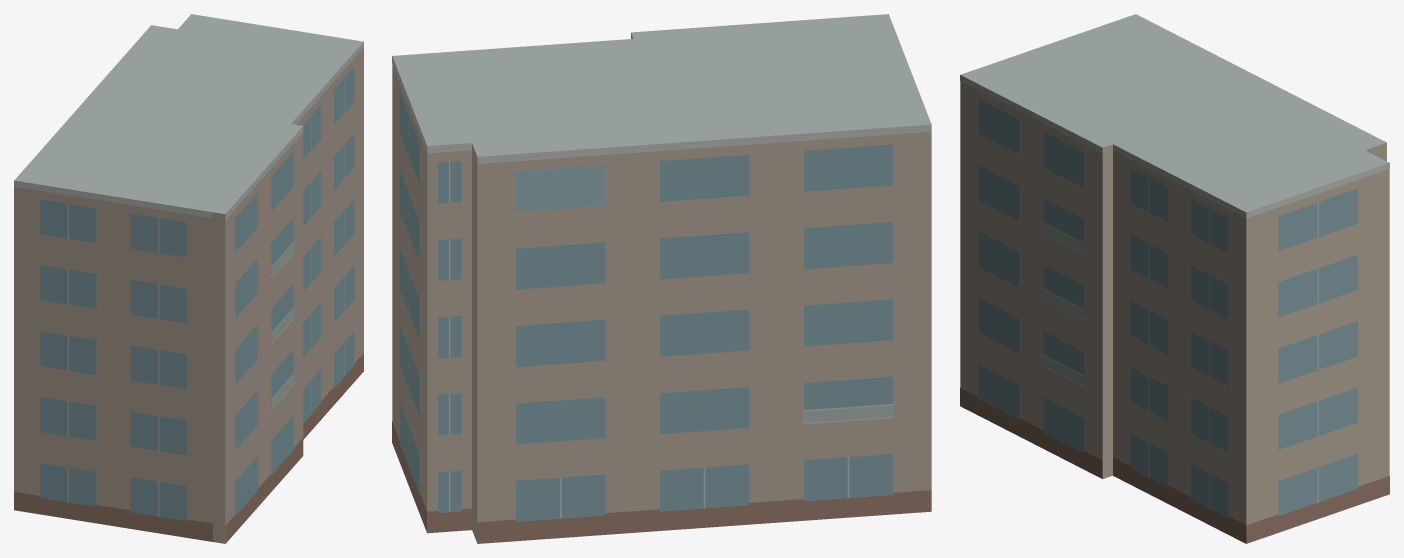
The model's file is survey-upis-32915024.glb.
3 renders of one model, left to right at view 1: azimuth 30°, elevation 25°; view 2: azimuth 150°, elevation 25°; view 3: azimuth 270°, elevation 25°, orthographic. The views are drawn at different scales.
Visible parts, largest first — view 1: survey-upis-32915024.tmp; view 2: survey-upis-32915024.tmp; view 3: survey-upis-32915024.tmp.
Boxes of the visible parts, bbox=[...] form: survey-upis-32915024.tmp: bbox=[14, 14, 363, 543]; survey-upis-32915024.tmp: bbox=[392, 14, 931, 543]; survey-upis-32915024.tmp: bbox=[960, 14, 1389, 543].
Size of the model in its own units: 16.7 by 13 by 15.28.
